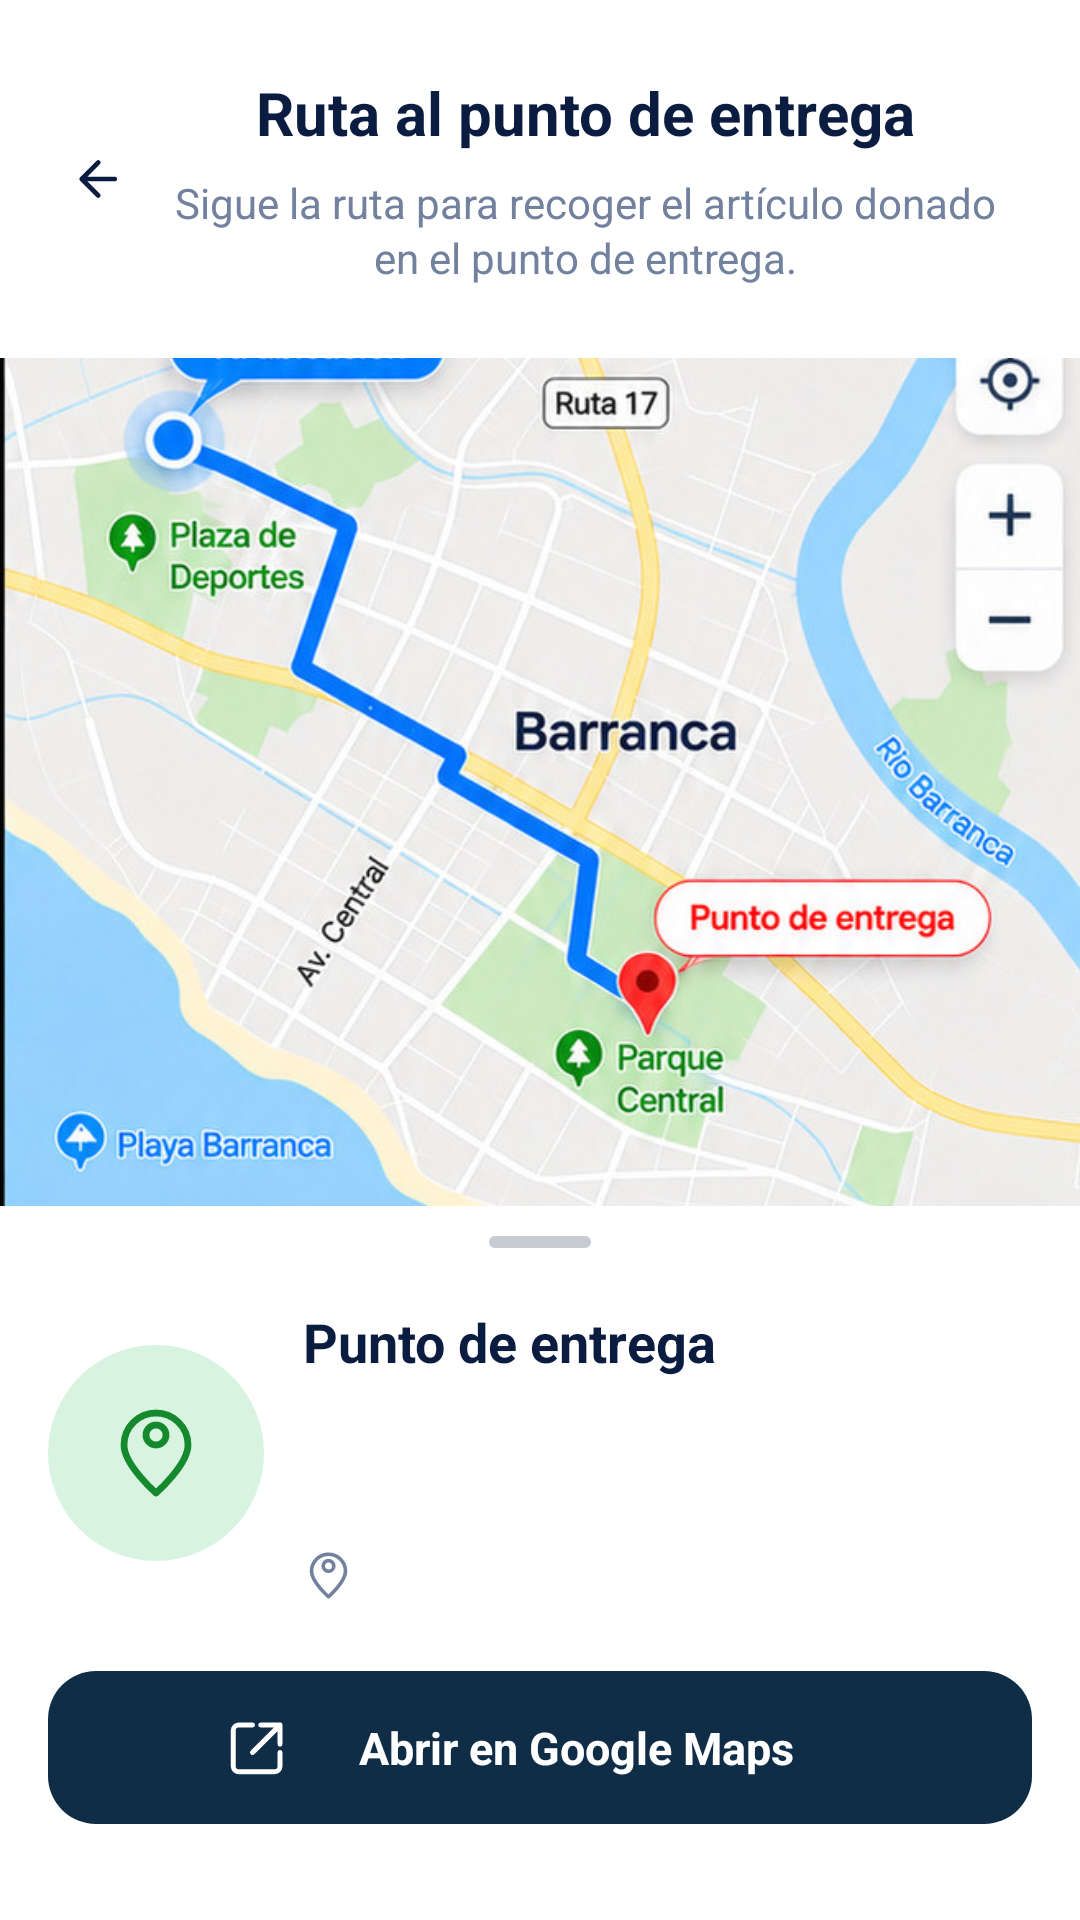

Point at icon controls on the screen. Image size 1080*1920, points as [x,y].
Volver: [98,179]
